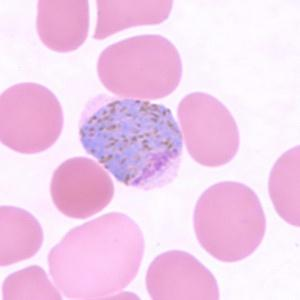Infected: (78, 92, 183, 188)
Uninfected: (47, 211, 144, 300), (194, 181, 265, 262), (95, 34, 182, 96), (176, 91, 240, 167), (0, 82, 64, 155), (51, 157, 114, 218), (146, 249, 220, 300), (36, 0, 91, 54), (0, 205, 43, 267)
